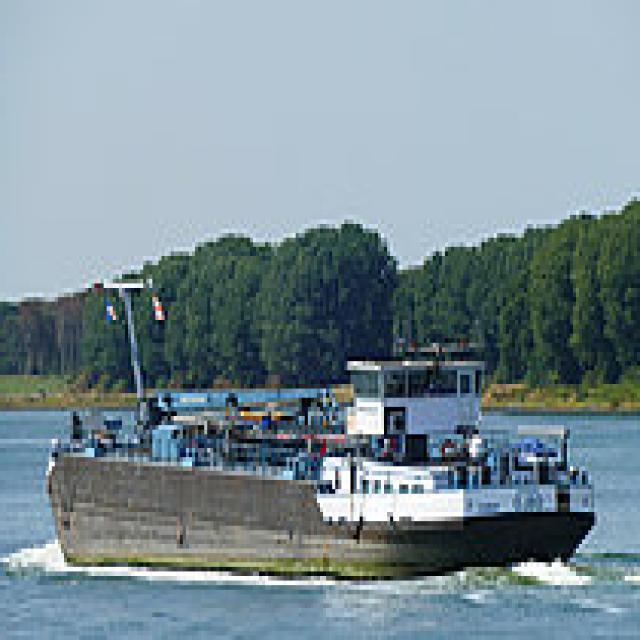Tanker: (46, 265, 603, 581)
